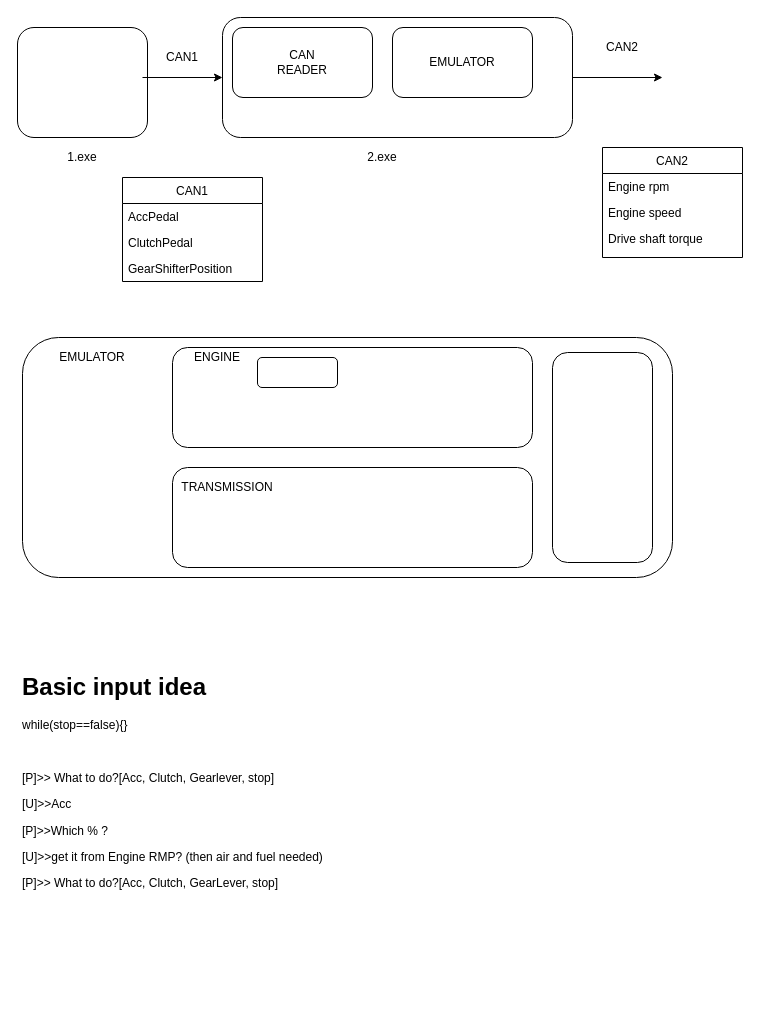
The diagram is 760 pixels wide and 1025 high, and some of its shapes have lost their labels. Here are the shapes that lost their labels. From the top down, the centre of each, then its label:
the point at 82,82: INPUT HANDLER
the point at 297,372: THROTTLE
the point at 602,457: CAN TRANSMITTER
